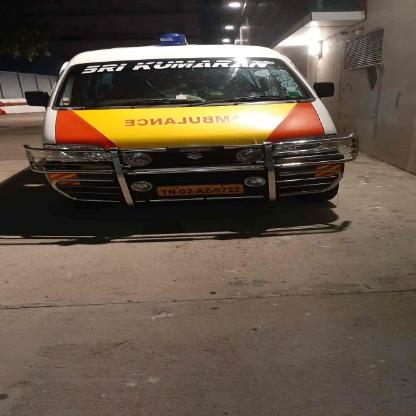priority: (38, 34, 344, 208)
